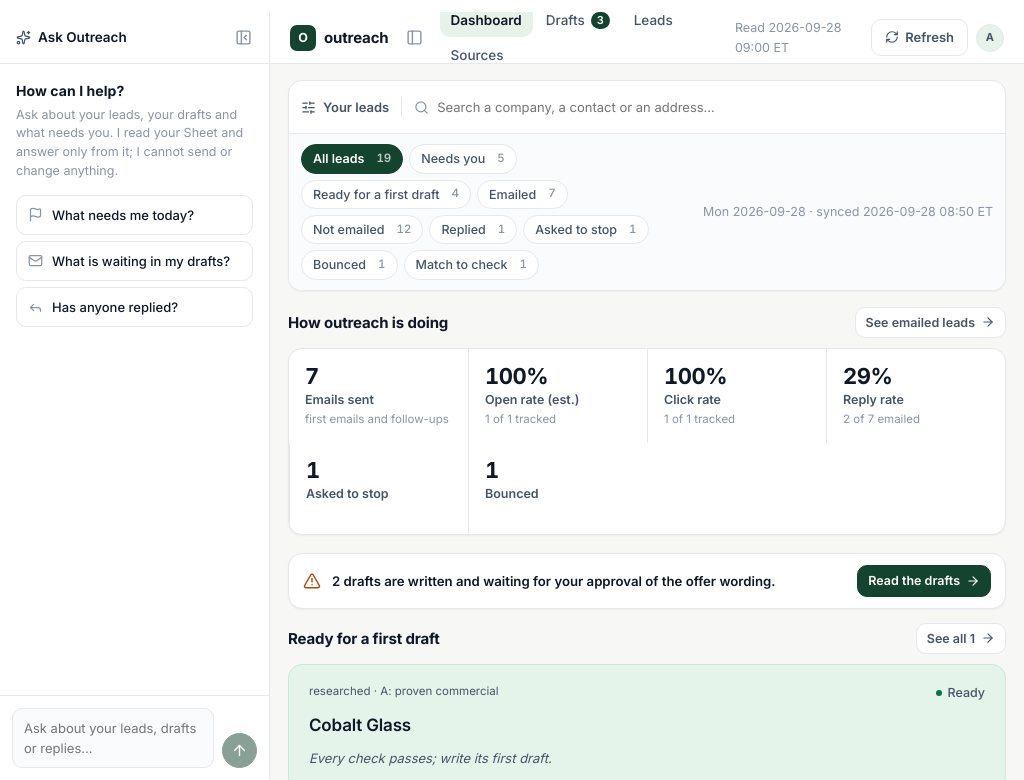
Test: the assistant › asks what the founder typed and shows the answer with its leads and link
Step 1. Type "who replied?" into the text box named "Ask the assistant" → point(113, 738), box [12,708,214,768]
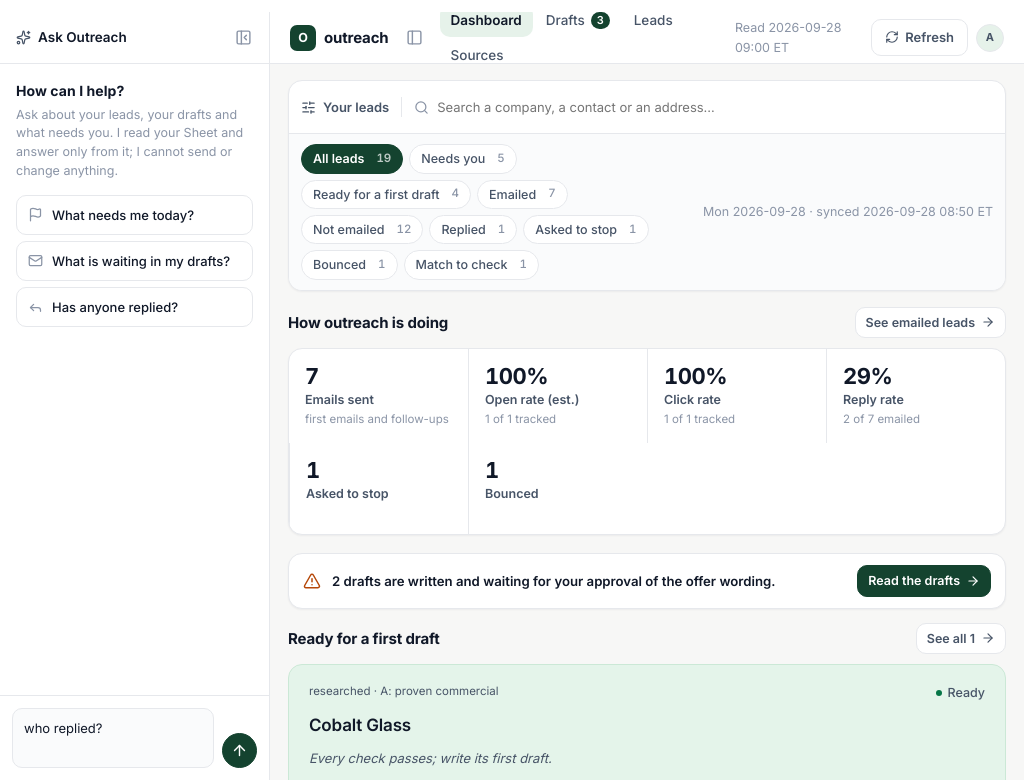
Step 2. Click the button named "Ask" → point(240, 750), box [222,733,257,768]
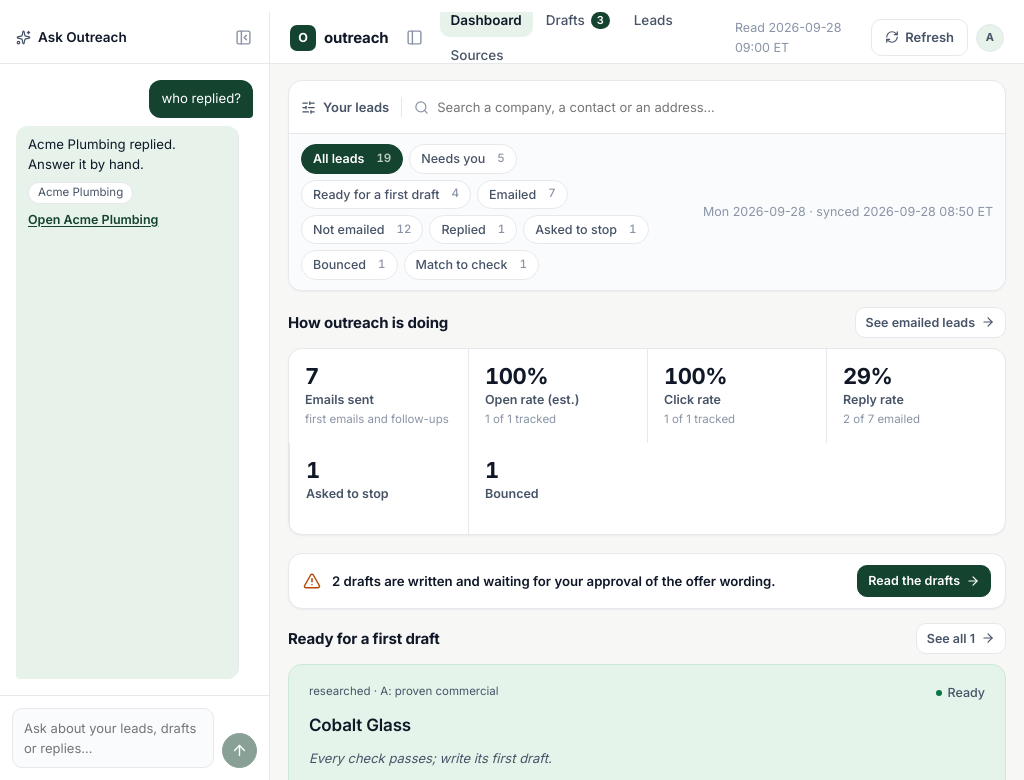
Result: the text "Acme Plumbing replied. Answer it by hand." is shown at [28,136,176,172]
Result: the text "who replied?" is shown at [161,89,241,109]
